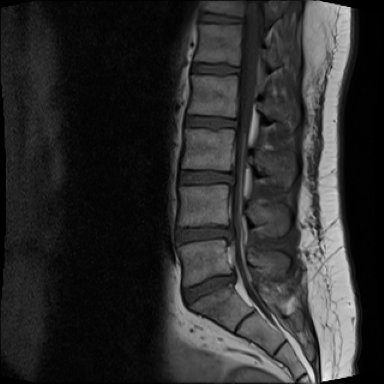Lumbar Disc Bulge (LDB): (173, 264, 242, 314), (168, 223, 240, 247), (171, 167, 240, 191)
Normal IVD: (177, 108, 242, 133), (185, 58, 245, 79), (192, 8, 246, 28)
Spinal Stenosis (SS): (218, 216, 240, 248), (221, 262, 244, 291), (225, 162, 243, 189)
